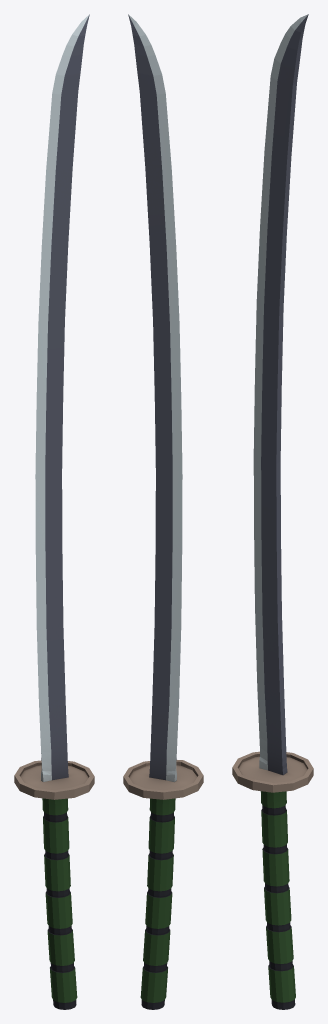
The model's file is sword.glb.
3 renders of one model, left to right at view 1: azimuth 30°, elevation 25°; view 2: azimuth 150°, elevation 25°; view 3: azimuth 330°, elevation 25°, orthographic.
Parts seen in each view (by area): view 1: Cylinder.001; view 2: Cylinder.001; view 3: Cylinder.001.
Boxes of the visible parts, bbox=[...] form: Cylinder.001: bbox=[14, 14, 94, 1009]; Cylinder.001: bbox=[123, 14, 203, 1009]; Cylinder.001: bbox=[232, 14, 313, 1009].
Size of the model in its own units: 0.4296 by 5.76 by 0.4249.
1 material, 1 textured.
